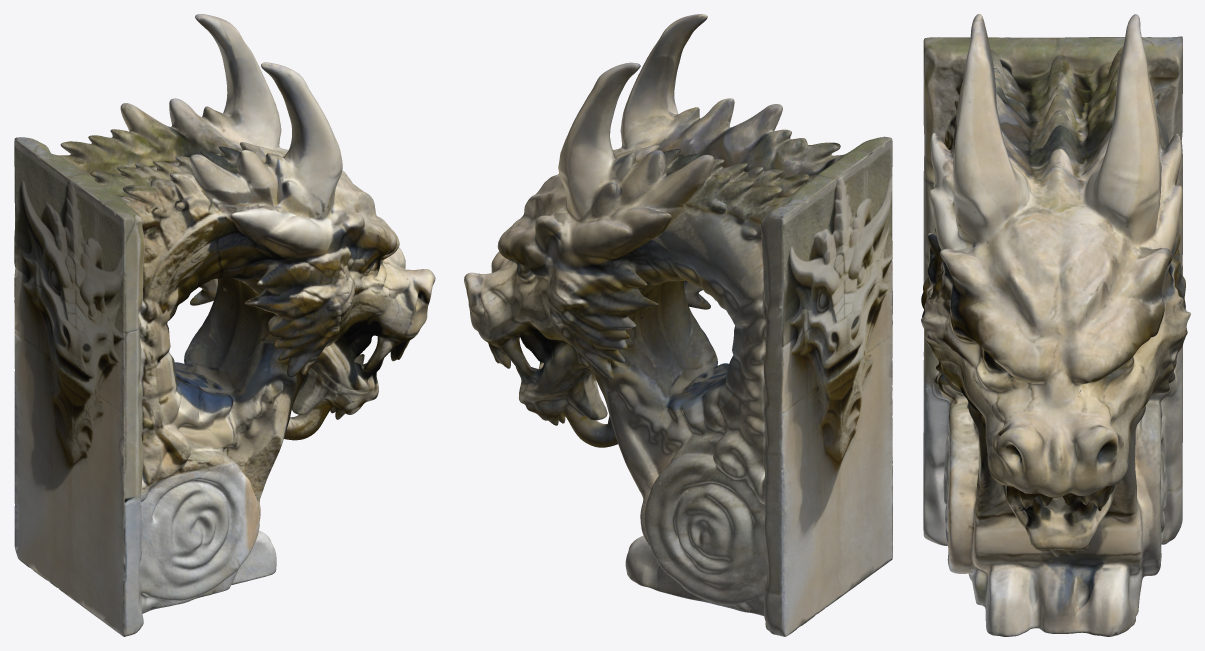
Rendered from An_Aged_Stone_Corbel__0613152051_texture.fbx.
3 views of the same model, side by side, from view 1: azimuth 30°, elevation 25°; view 2: azimuth 150°, elevation 25°; view 3: azimuth 270°, elevation 25° (orthographic). The views are drawn at different scales.
Visible parts, largest first — view 1: Mesh1_Mesh1.090; view 2: Mesh1_Mesh1.090; view 3: Mesh1_Mesh1.090.
Boxes of the visible parts, x1=… form: Mesh1_Mesh1.090: x1=14, y1=14, x2=435, y2=636; Mesh1_Mesh1.090: x1=464, y1=14, x2=892, y2=636; Mesh1_Mesh1.090: x1=921, y1=14, x2=1190, y2=636.
Bounding box in the file's own units: 143 × 201 × 80.31.
1 material, 1 textured.
